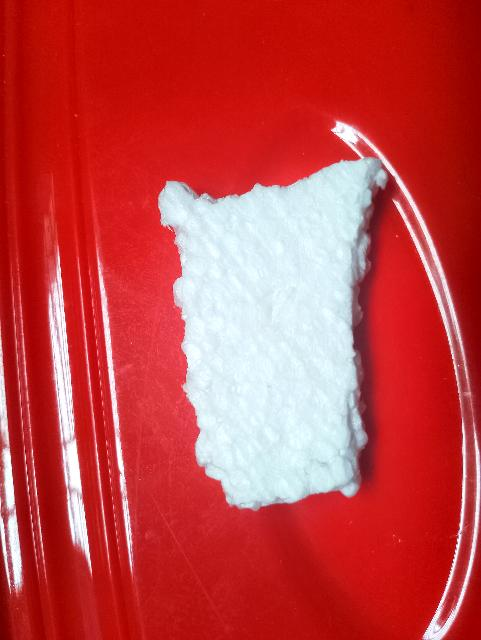cocksheet: (156, 153, 439, 506)
